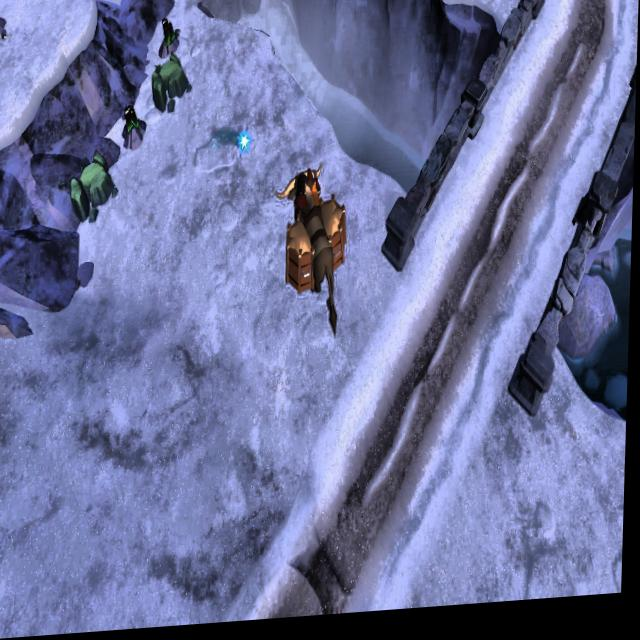ore_t3: (123, 100, 141, 141), (163, 18, 178, 55)
rock_t3: (72, 146, 118, 229), (150, 52, 194, 119)
